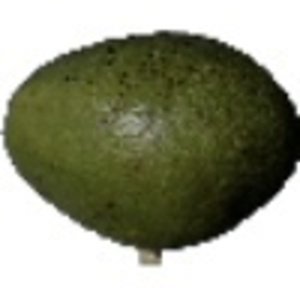abacate: (3, 26, 299, 250)
